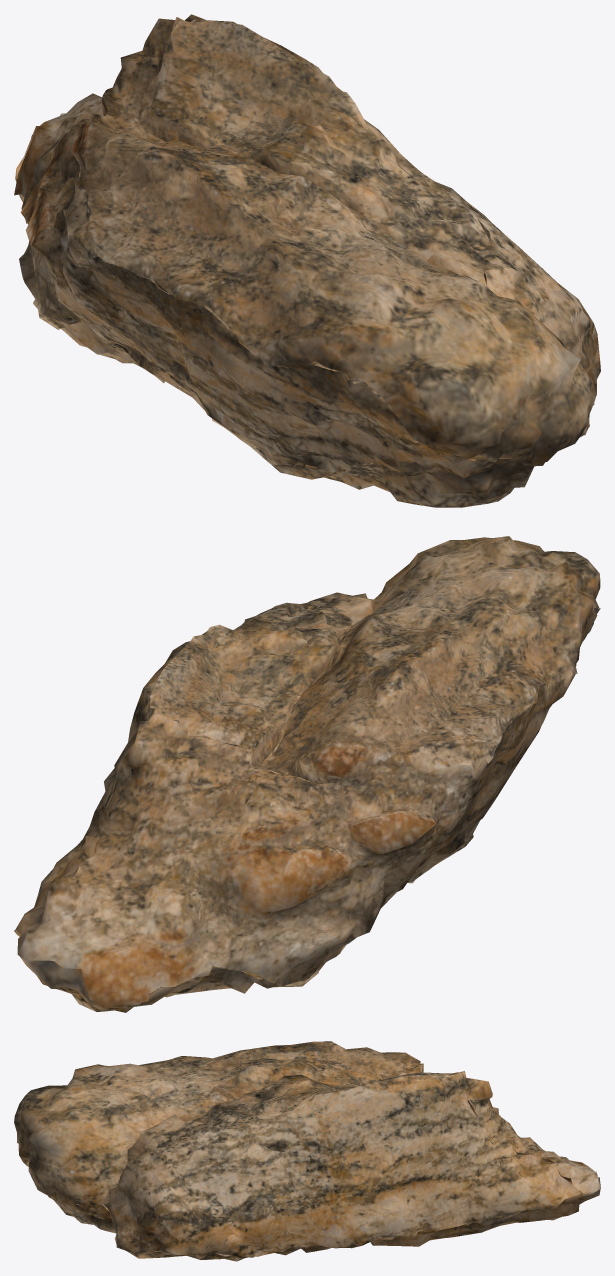
Rendered from SM_CinderScenery_Rock_F.fbx.
3 renders of one model, top to bottom at view 1: azimuth 30°, elevation 25°; view 2: azimuth 150°, elevation 25°; view 3: azimuth 270°, elevation 25°, orthographic. The views are drawn at different scales.
Visible parts, largest first — view 1: SM_CinderScenery_Rock_F; view 2: SM_CinderScenery_Rock_F; view 3: SM_CinderScenery_Rock_F.
Boxes of the visible parts, <box> form: SM_CinderScenery_Rock_F: <box>14,14,600,507</box>; SM_CinderScenery_Rock_F: <box>14,536,600,1012</box>; SM_CinderScenery_Rock_F: <box>14,1041,600,1261</box>.
Size of the model in its own units: 47.78 by 100 by 32.53.
